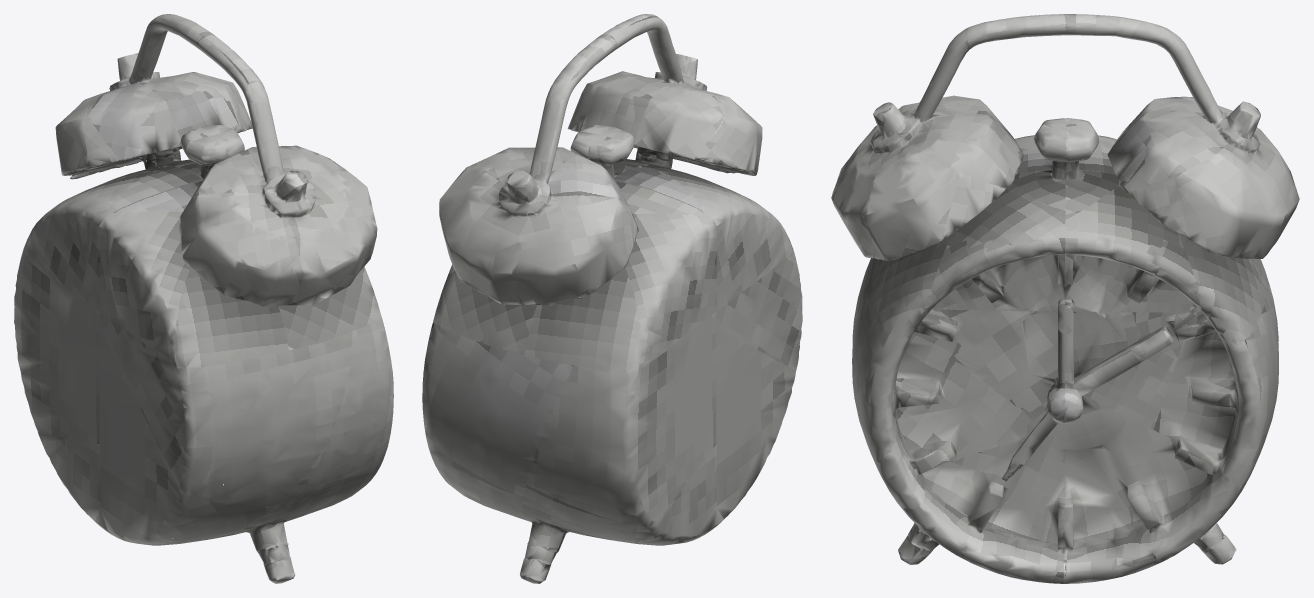
File: m_desk_clock.glb
The picture shows the model from 3 angles, left to right: view 1: azimuth 30°, elevation 25°; view 2: azimuth 150°, elevation 25°; view 3: azimuth 270°, elevation 25°; orthographic projection. The views are drawn at different scales.
Visible parts, largest first — view 1: tripo_node_43142db3-efb1-4fbc-b212-0c06f8bffea2; view 2: tripo_node_43142db3-efb1-4fbc-b212-0c06f8bffea2; view 3: tripo_node_43142db3-efb1-4fbc-b212-0c06f8bffea2.
Boxes of the visible parts, x1=… form: tripo_node_43142db3-efb1-4fbc-b212-0c06f8bffea2: x1=14, y1=14, x2=393, y2=583; tripo_node_43142db3-efb1-4fbc-b212-0c06f8bffea2: x1=422, y1=14, x2=802, y2=583; tripo_node_43142db3-efb1-4fbc-b212-0c06f8bffea2: x1=831, y1=14, x2=1299, y2=583.
Bounding box in the file's own units: 0.4453 × 0.9989 × 0.7771.
1 material, 1 textured.
